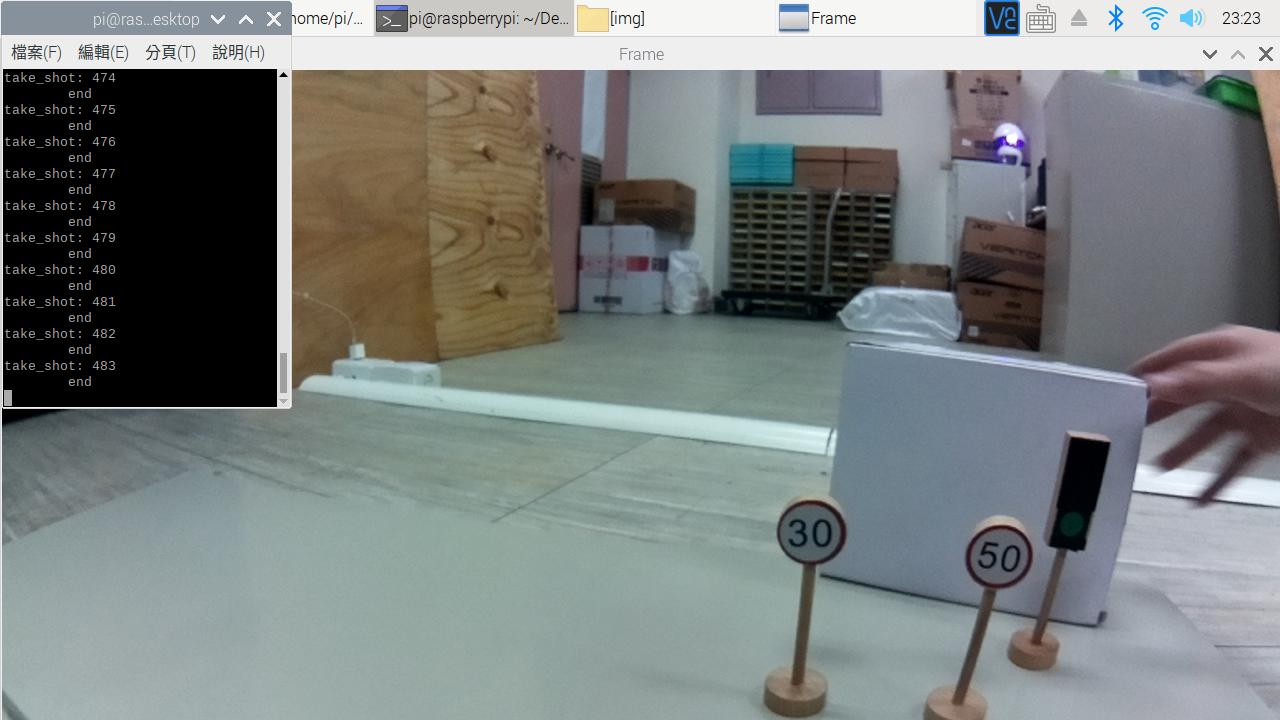Green: (1048, 431, 1105, 559)
Speed30: (773, 495, 852, 573)
Speed50: (957, 509, 1037, 599)
